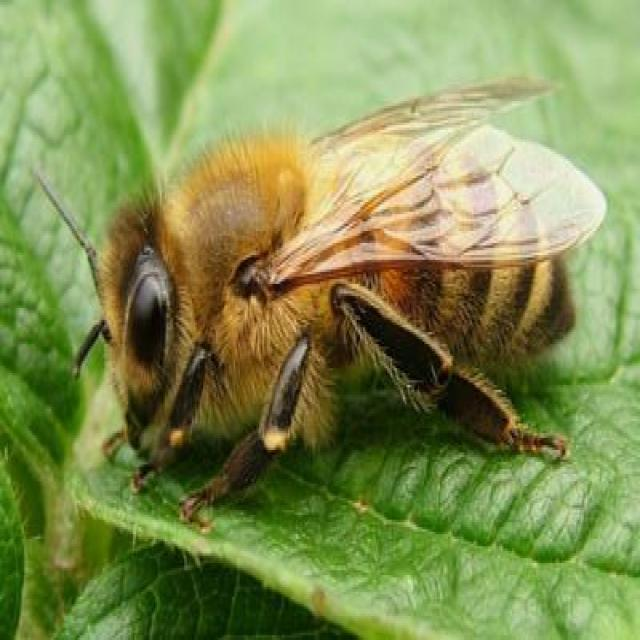antennae: (30, 164, 106, 306), (72, 313, 116, 386)
body: (99, 130, 566, 426)
insect: (24, 66, 614, 526)
legs: (321, 276, 575, 472), (186, 334, 322, 521), (130, 344, 224, 499)
mouthpart: (112, 382, 162, 453)
wings: (233, 137, 608, 306), (302, 72, 563, 169)
